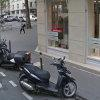Motorcycle: (16, 58, 80, 100)
